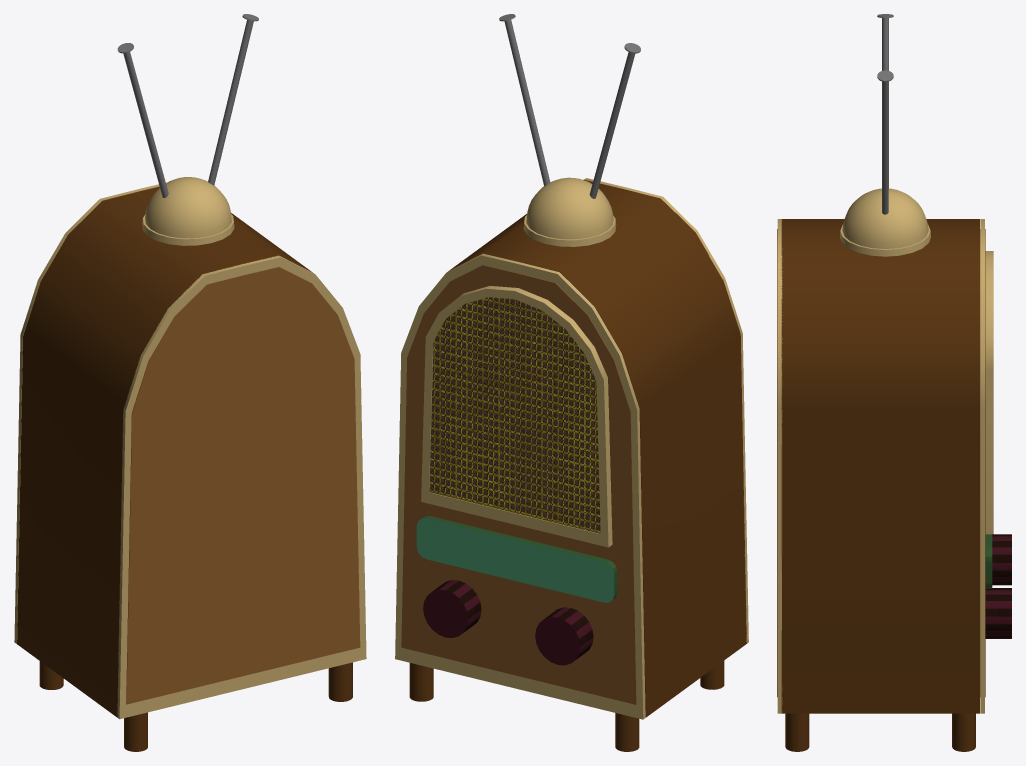
File: radioMarceline.obj
The picture shows the model from 3 angles, left to right: view 1: azimuth 30°, elevation 25°; view 2: azimuth 150°, elevation 25°; view 3: azimuth 270°, elevation 25°; orthographic projection.
Visible parts, largest first — view 1: pCylinder24; view 2: pCylinder24; view 3: pCylinder24.
Boxes of the visible parts, x1,y1,x2,y2 form: pCylinder24: (14, 14, 366, 751); pCylinder24: (395, 14, 748, 751); pCylinder24: (777, 14, 1011, 751).
Bounding box in the file's own units: 1.43 × 3.65 × 1.19.
Materials: 8 (8 with a texture image).
